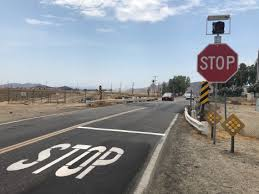stop: (196, 44, 241, 83)
